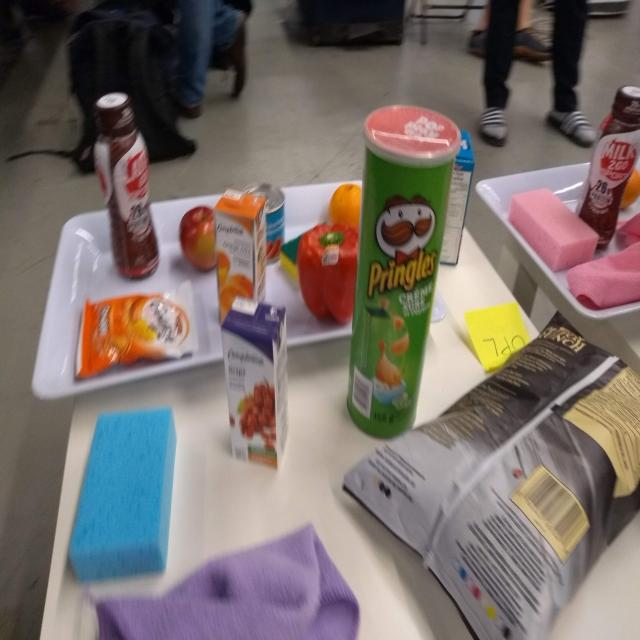apple: (174, 203, 219, 272)
cereal: (438, 125, 474, 274)
chocolate_drink: (90, 88, 167, 279), (576, 87, 640, 246)
cloth_opl: (90, 524, 358, 640)
crackers: (76, 292, 197, 360)
grape_juice: (221, 305, 293, 470)
orange: (328, 182, 364, 230)
orange_juice: (215, 187, 267, 317)
paprika: (295, 226, 359, 326)
potato_chips: (360, 329, 640, 637)
pringles: (346, 108, 461, 439)
sausages: (265, 181, 287, 266)
sponge_opl: (72, 408, 182, 576)
